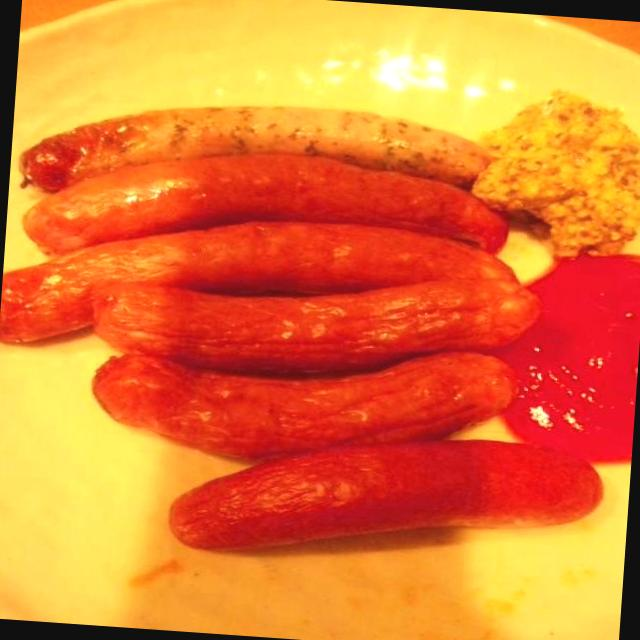Sausage: (0, 53, 574, 596)
